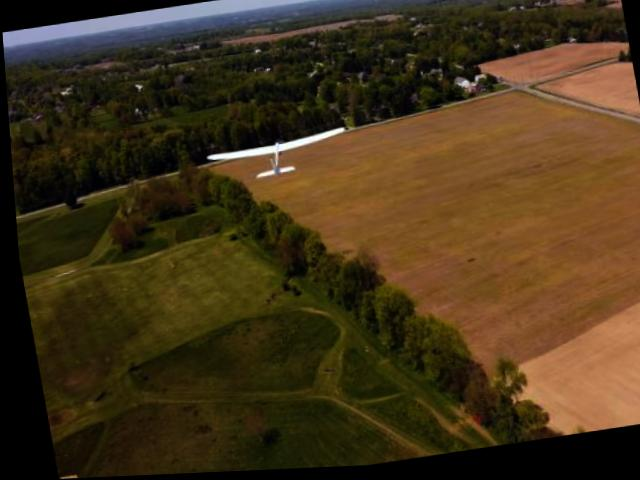uav: (196, 117, 356, 199)
